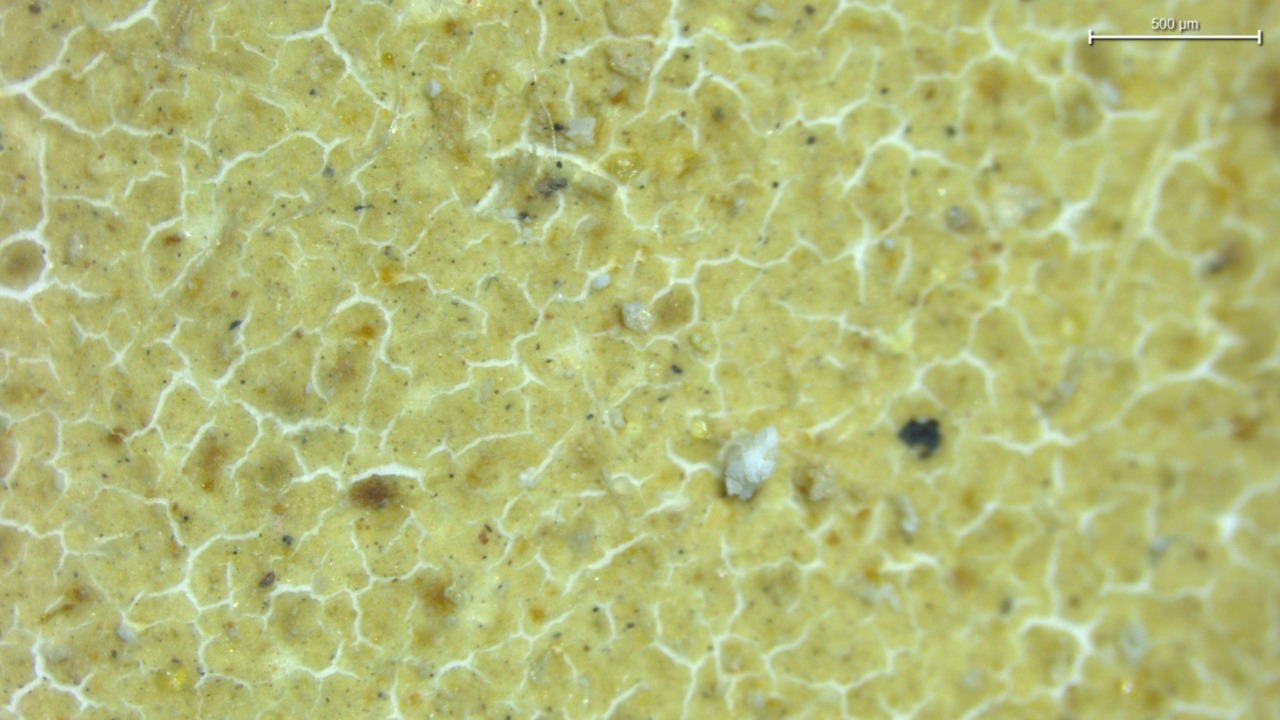microplastic_fragment: (724, 426, 779, 500), (622, 301, 654, 331)
